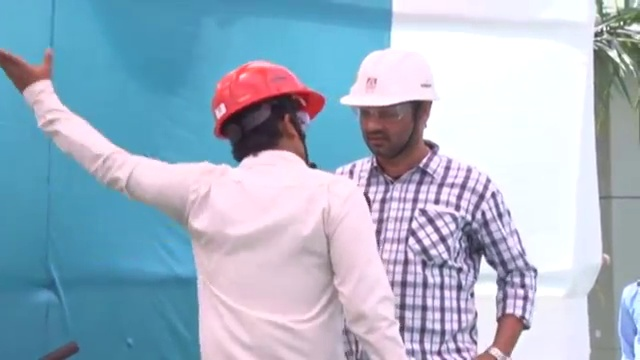helmet: (208, 58, 331, 137), (337, 44, 441, 106)
helmet_on: (207, 57, 332, 168), (337, 43, 443, 173)
person: (1, 46, 412, 354), (330, 42, 537, 360)
